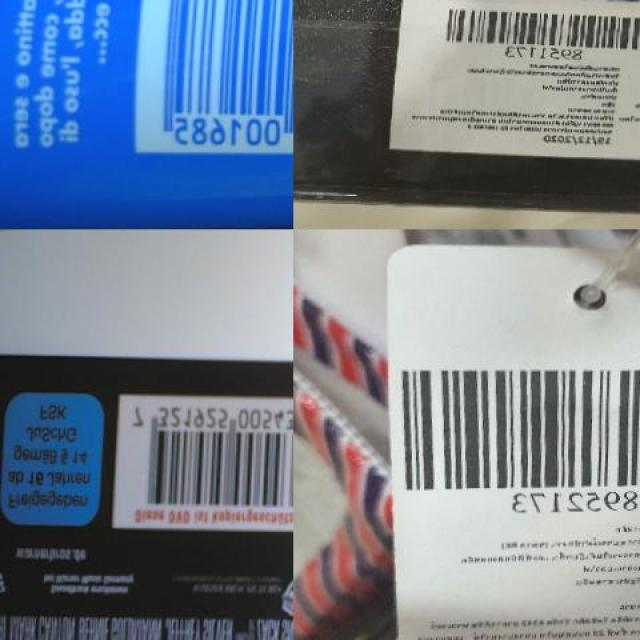Barcode: (392, 356, 640, 521), (115, 393, 293, 528), (138, 0, 294, 152), (434, 0, 640, 60)
